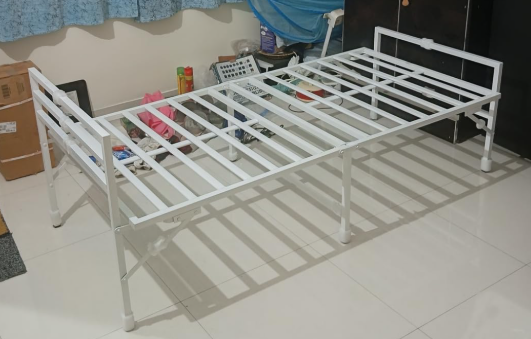cot: (13, 73, 493, 336)
